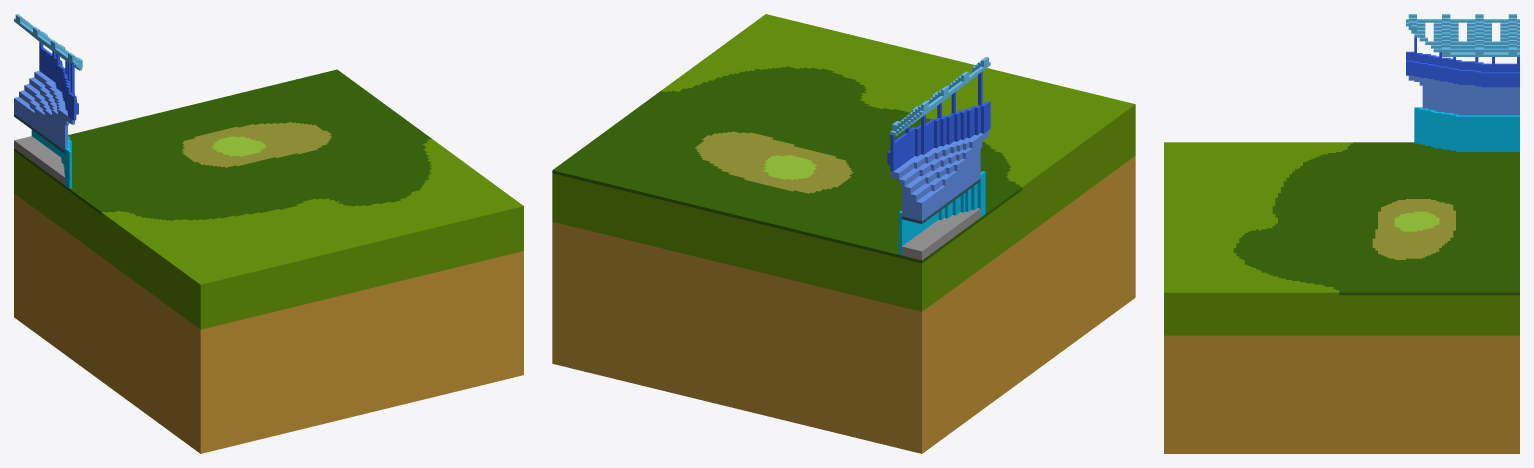
3 renders of one model, left to right at view 1: azimuth 30°, elevation 25°; view 2: azimuth 150°, elevation 25°; view 3: azimuth 270°, elevation 25°, orthographic. The views are drawn at different scales.
Visible parts, largest first — view 1: 4L-0; view 2: 4L-0; view 3: 4L-0.
Part boxes in pixels (<box>): 4L-0: <box>14,14,523,453</box>; 4L-0: <box>552,14,1135,453</box>; 4L-0: <box>1164,14,1519,453</box>.
Bounding box in the file's own units: 12.8 × 11.5 × 12.8.
Materials: 1 (1 with a texture image).
